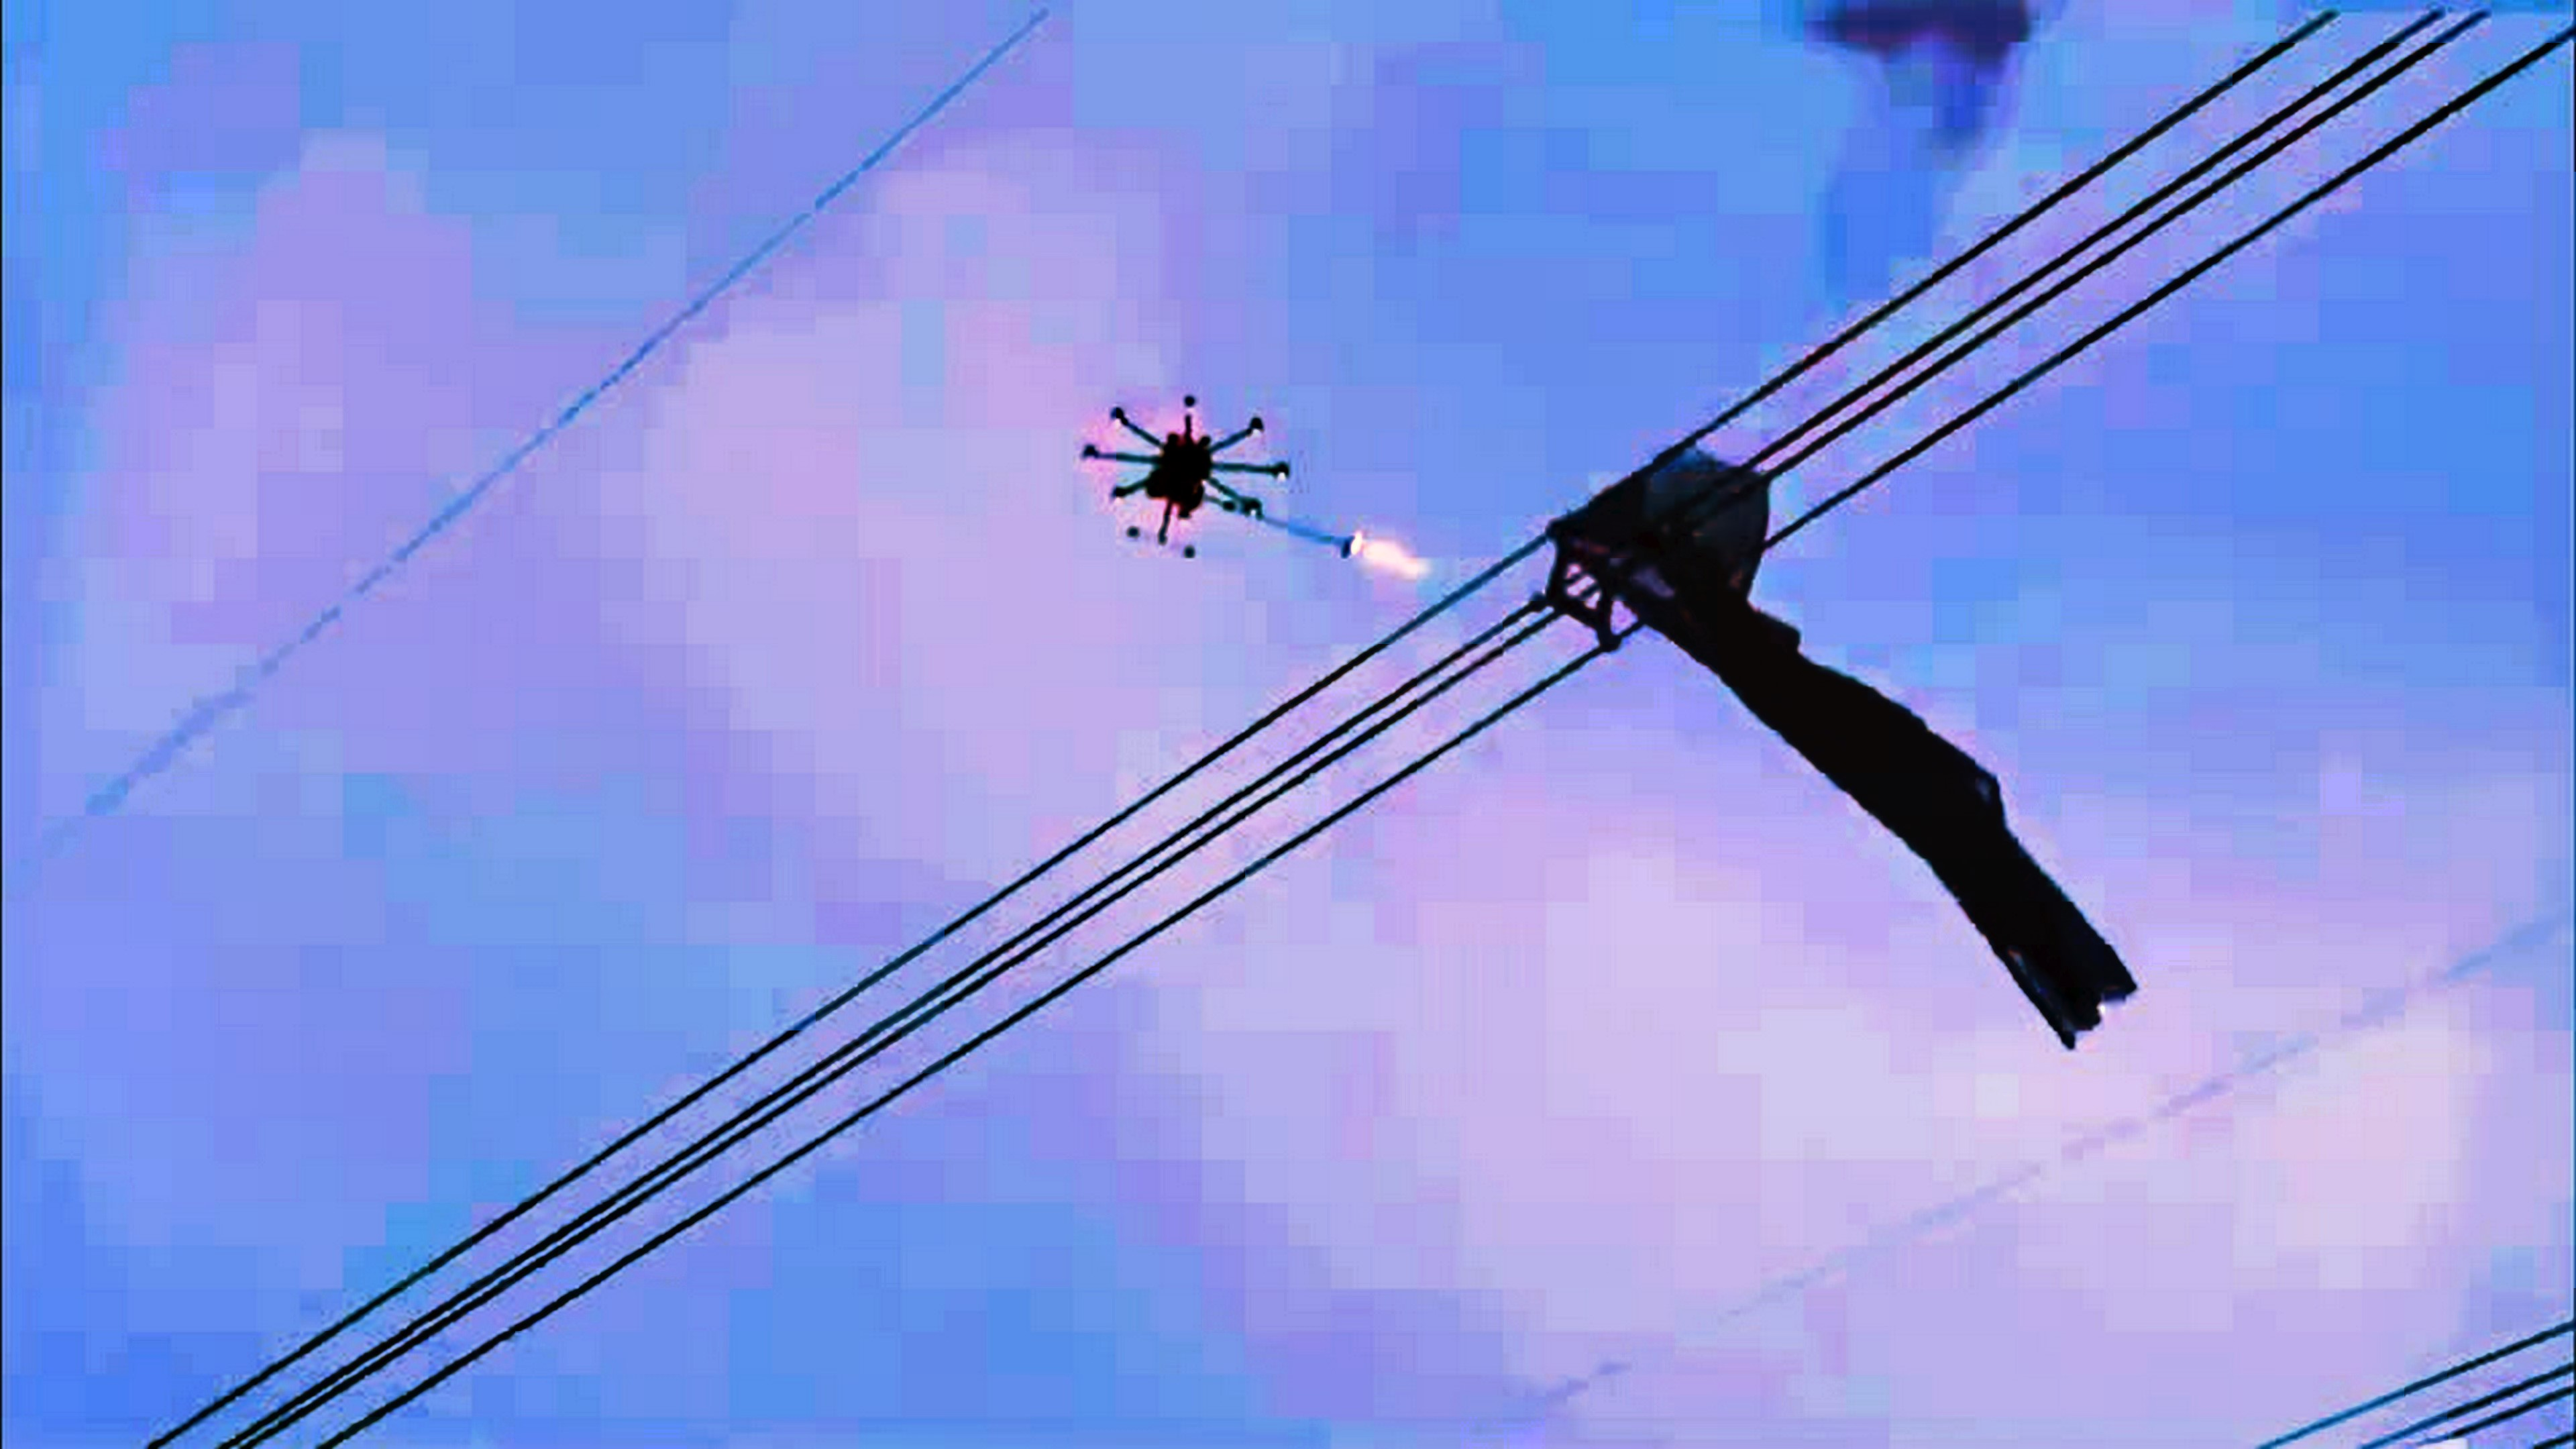wire foreign body: (1509, 426, 2143, 1042)
